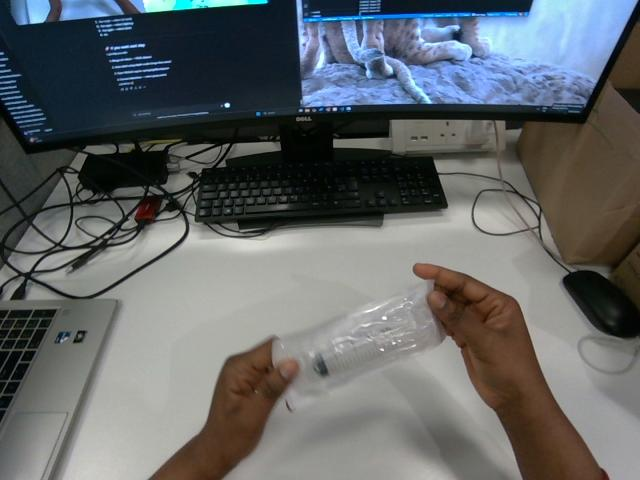syringe: (272, 280, 444, 409)
